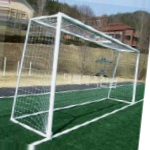goals: (10, 11, 139, 136)
